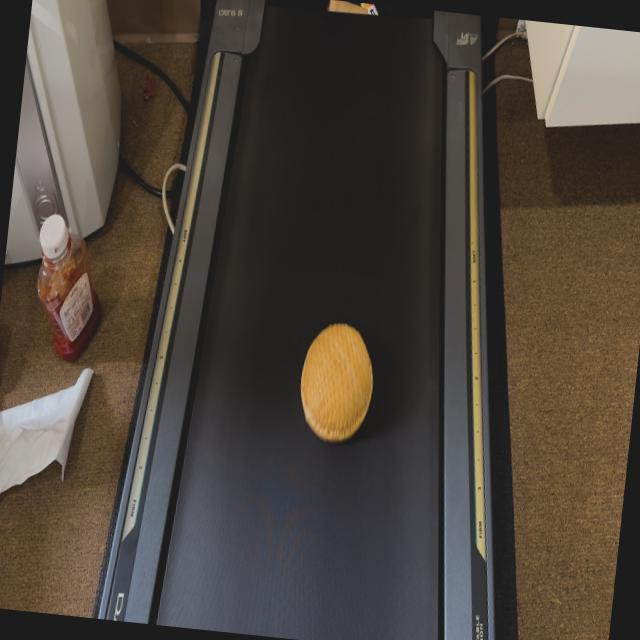Recycle: (324, 0, 367, 14)
Trash: (296, 318, 379, 442), (358, 3, 378, 15)
